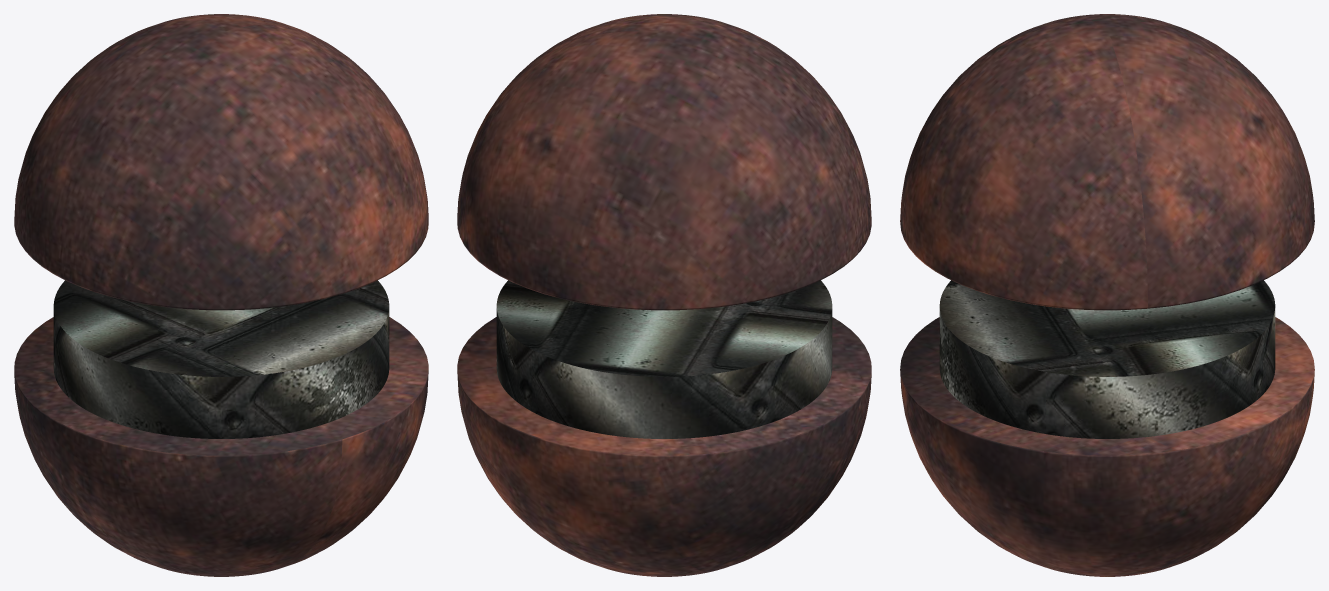
File: droid_anim_000033.obj
The picture shows the model from 3 angles, left to right: view 1: azimuth 30°, elevation 25°; view 2: azimuth 150°, elevation 25°; view 3: azimuth 270°, elevation 25°; orthographic projection.
Visible parts, largest first — view 1: Sphere.004, Sphere.005, Cylinder.002; view 2: Sphere.004, Sphere.005, Cylinder.002; view 3: Sphere.004, Sphere.005, Cylinder.002.
Part boxes in pixels (left/top/right/bottom): Sphere.004: left=14, top=14, right=428, bottom=310; Sphere.005: left=14, top=317, right=428, bottom=576; Cylinder.002: left=53, top=280, right=389, bottom=438; Sphere.004: left=457, top=14, right=871, bottom=310; Sphere.005: left=457, top=317, right=871, bottom=576; Cylinder.002: left=496, top=280, right=832, bottom=438; Sphere.004: left=900, top=14, right=1314, bottom=310; Sphere.005: left=900, top=317, right=1314, bottom=576; Cylinder.002: left=939, top=280, right=1275, bottom=438.
Bounding box in the file's own units: 2 × 2.79 × 2.
3 materials, 3 textured.
